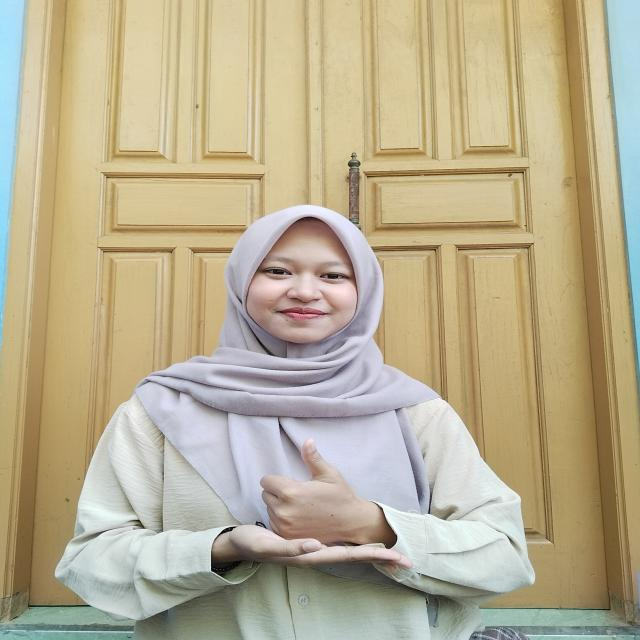cantik: (182, 434, 422, 572)
